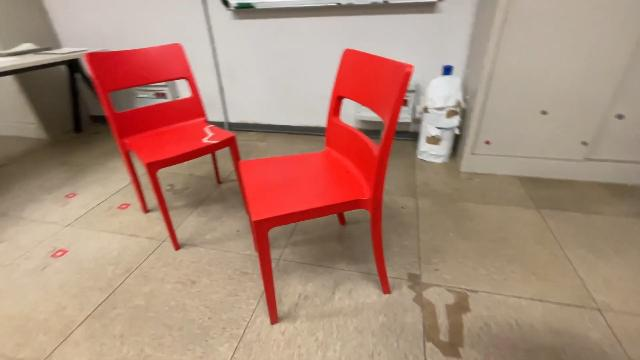Chair: (232, 44, 420, 334), (81, 40, 256, 255)
